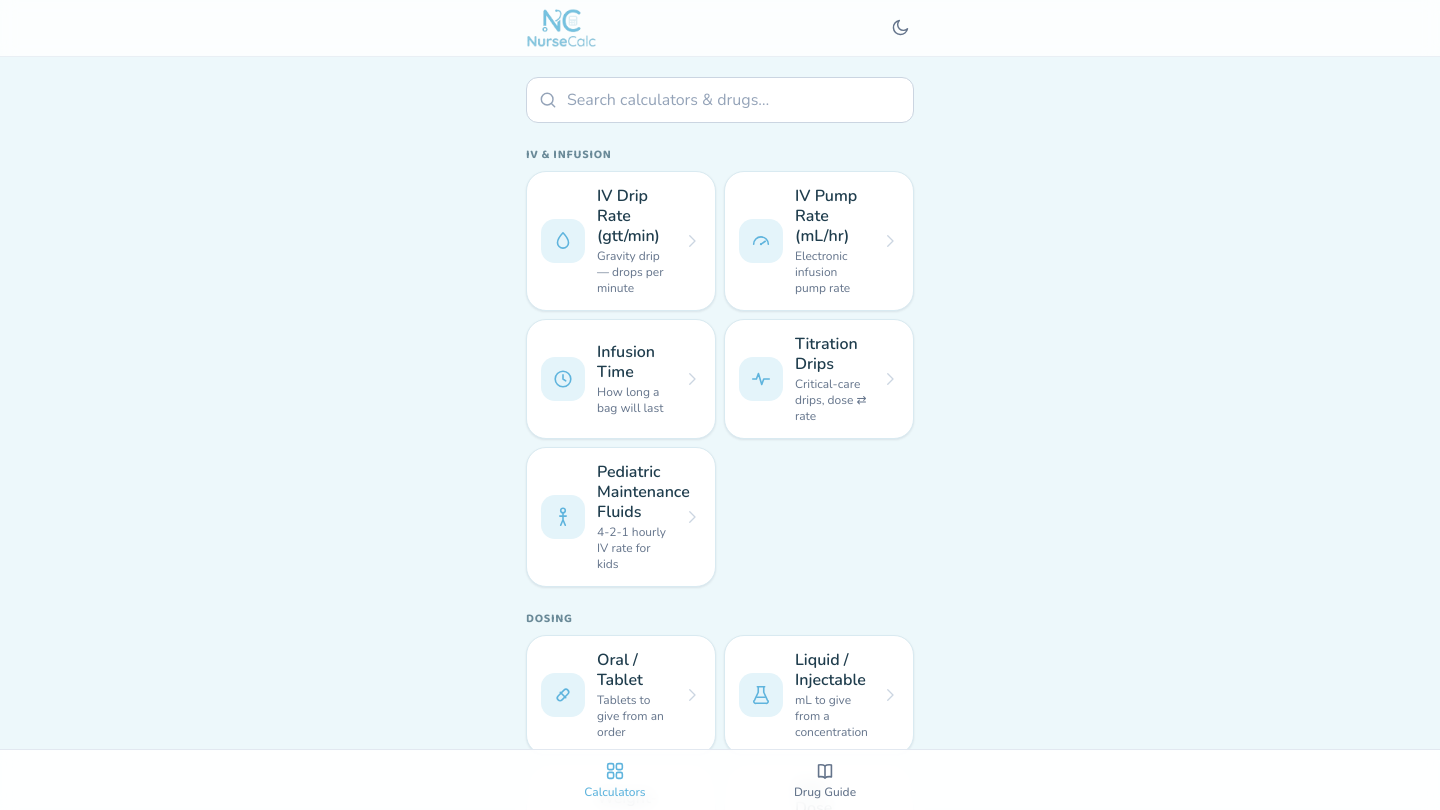
it: App › home search filters calculators and deep-links a drug into the guide
This screenshot has width=1440, height=810.
Type "dopamine" into the search field named "Search calculators and drugs" at (720, 100), box [526, 77, 914, 123]
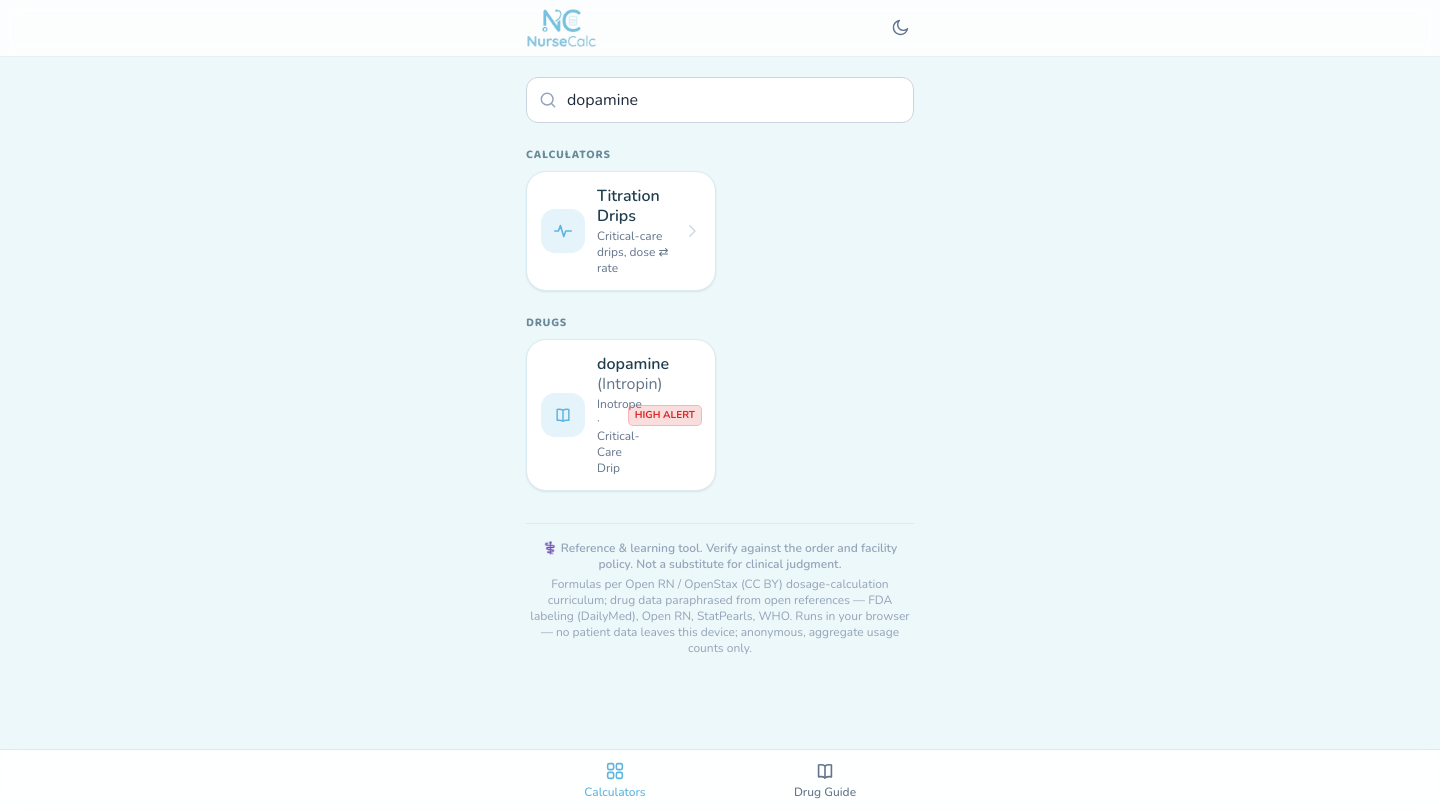
Expected: the button "Titration Drips Critical-care drips, dose ⇄ rate" is shown, [526, 171, 716, 291]
Click the button "dopamine (Intropin) inotrope · Critical-care drip HIGH ALERT" at (621, 415), box [526, 339, 716, 491]
(page scrolled)
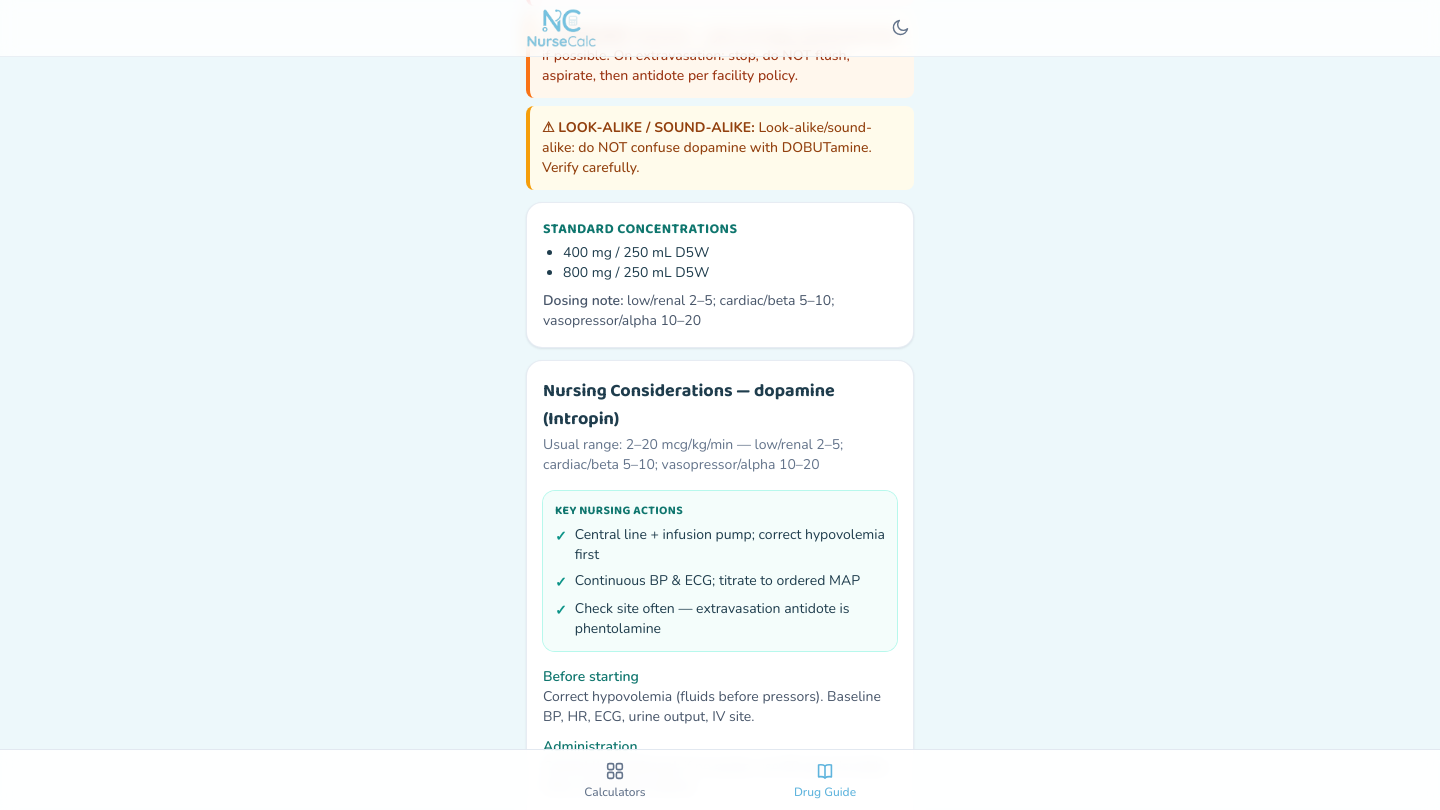
Now the heading "Nursing Considerations — dopamine (Intropin)" is shown, box [543, 377, 835, 433]
